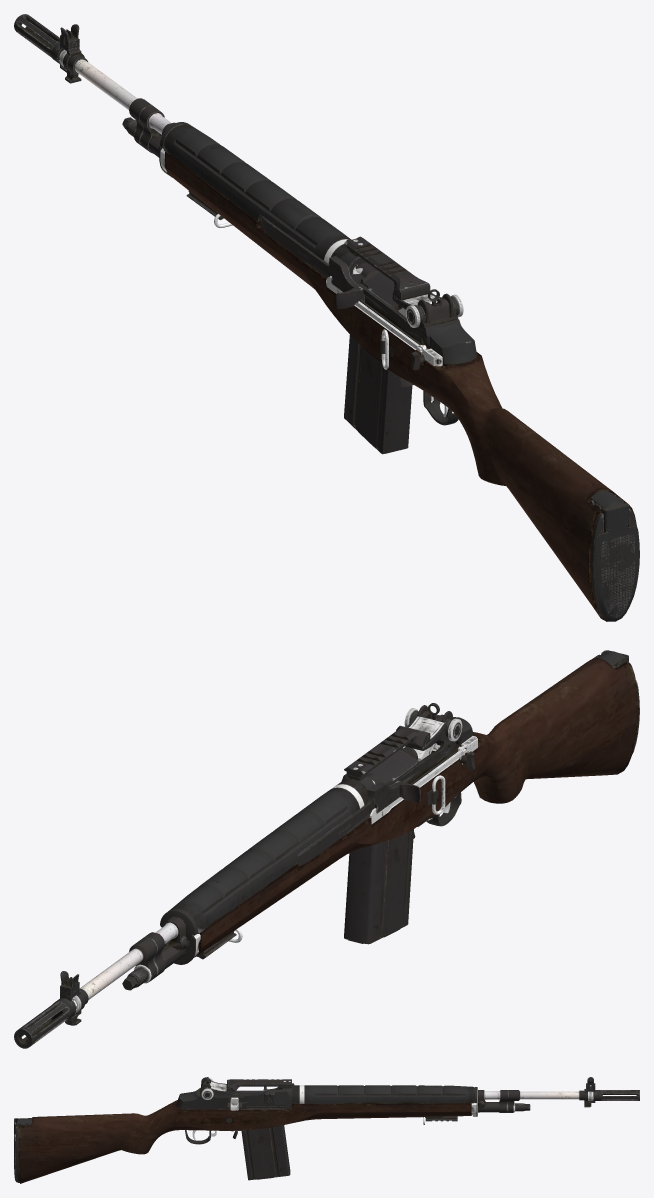
3 renders of one model, top to bottom at view 1: azimuth 30°, elevation 25°; view 2: azimuth 150°, elevation 25°; view 3: azimuth 270°, elevation 25°, orthographic. The views are drawn at different scales.
Parts seen in each view (by area): view 1: ANCHOR, MAGAZINE, OPERATING_HANDLE, FRAME, BOLT; view 2: ANCHOR, MAGAZINE, OPERATING_HANDLE, FRAME, BOLT; view 3: ANCHOR, MAGAZINE, FRAME.
Boxes of the visible parts, <box> form: ANCHOR: <box>14,14,639,621</box>; MAGAZINE: <box>344,335,412,454</box>; OPERATING_HANDLE: <box>261,216,364,308</box>; FRAME: <box>186,191,428,297</box>; BOLT: <box>350,262,402,311</box>; ANCHOR: <box>14,650,639,1048</box>; MAGAZINE: <box>344,829,413,944</box>; OPERATING_HANDLE: <box>297,781,420,865</box>; FRAME: <box>196,726,428,959</box>; BOLT: <box>366,747,419,784</box>; ANCHOR: <box>14,1077,639,1183</box>; MAGAZINE: <box>241,1125,290,1180</box>; FRAME: <box>228,1079,457,1121</box>.
Bounding box in the file's own units: 0.0717 × 0.2039 × 1.09.
2 materials, 1 textured.
